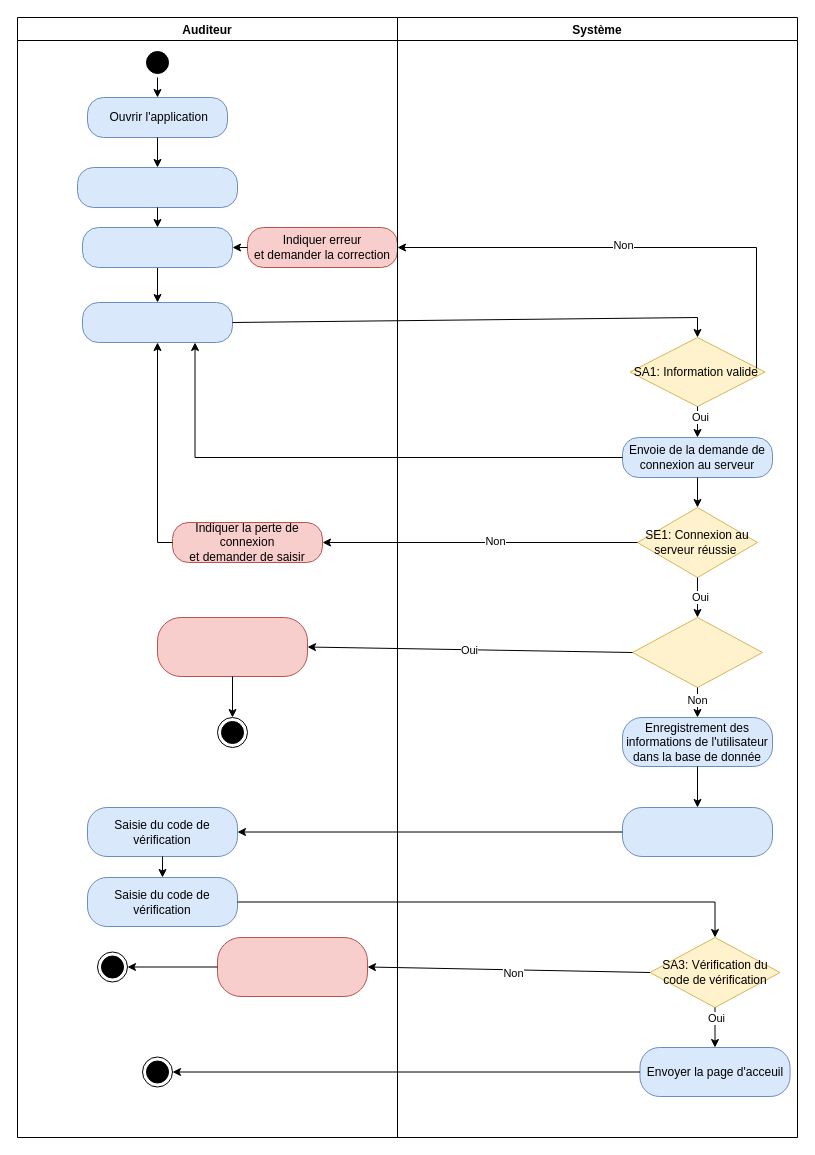
The diagram is 815 pixels wide and 1155 high, and some of its shapes have lost their labels. Each missing label, with the centre of its shape:
Cliquer sur s'inscrire: (x=157, y=187)
Demande renvoie du code de vérifiaction: (x=292, y=966)
Entrer les informations (Email, Nom,password): (x=157, y=247)
Envoie du code de vérification de l'Email: (x=697, y=831)
Indiquer que le compte est existant et demande de connexion: (x=232, y=646)
SA2: Compte existant: (x=697, y=652)
valider les informations entrer: (x=157, y=322)
